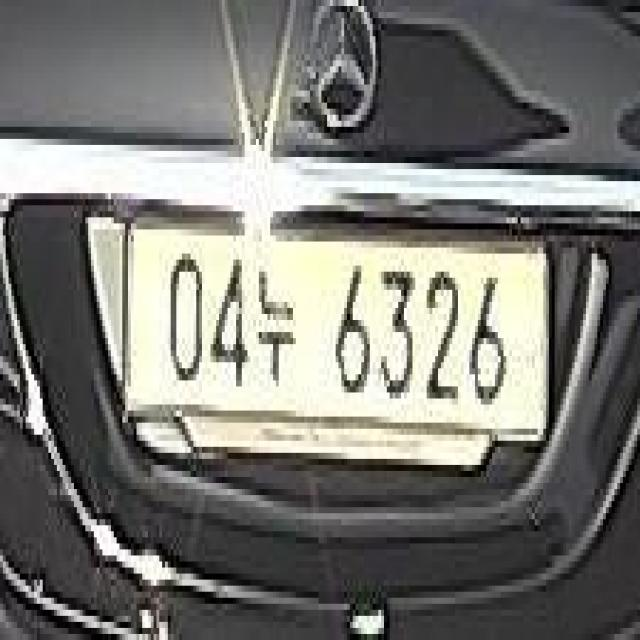illegal_plate: (112, 211, 559, 480)
